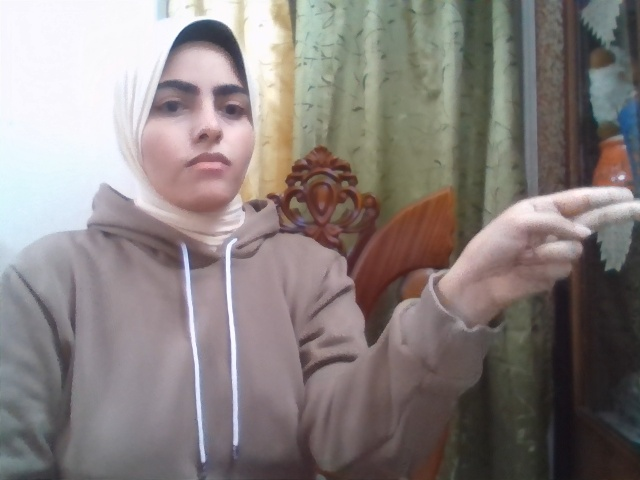H: (450, 186, 639, 309)
